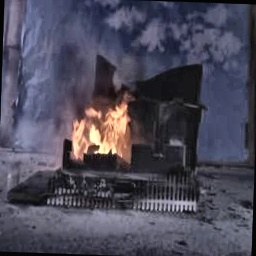fire: (63, 93, 144, 168)
